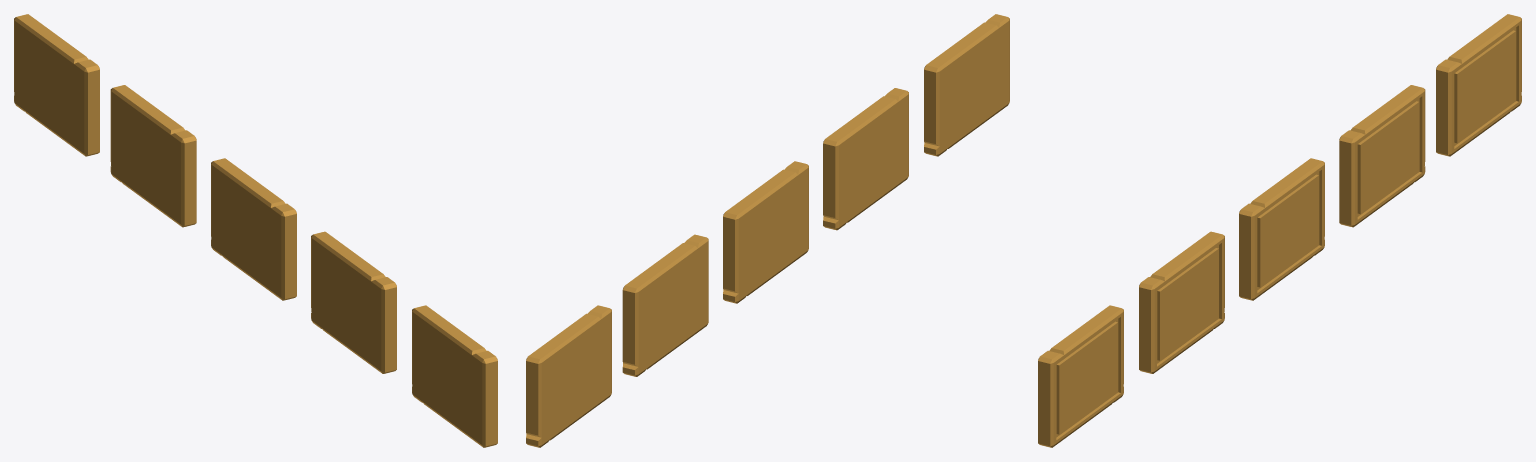
The model's file is LittleSlate.fbx.
3 views of the same model, side by side, from view 1: azimuth 30°, elevation 25°; view 2: azimuth 150°, elevation 25°; view 3: azimuth 330°, elevation 25° (orthographic).
Parts seen in each view (by area): view 1: Cube.003, Cube, Cube.002, Cube.004, Cube.001; view 2: Cube.003, Cube, Cube.004, Cube.001, Cube.002; view 3: Cube.003, Cube, Cube.004, Cube.002, Cube.001.
Part boxes in pixels (left/top/right/bottom): Cube.003: left=110, top=85, right=196, bottom=227; Cube: left=211, top=158, right=296, bottom=300; Cube.002: left=412, top=305, right=497, bottom=447; Cube.004: left=14, top=14, right=99, bottom=156; Cube.001: left=311, top=231, right=396, bottom=373; Cube.003: left=622, top=234, right=708, bottom=376; Cube: left=723, top=161, right=808, bottom=303; Cube.004: left=526, top=305, right=611, bottom=447; Cube.001: left=823, top=88, right=908, bottom=230; Cube.002: left=924, top=14, right=1009, bottom=156; Cube.003: left=1339, top=85, right=1425, bottom=227; Cube: left=1239, top=158, right=1324, bottom=300; Cube.004: left=1436, top=14, right=1521, bottom=156; Cube.002: left=1038, top=305, right=1123, bottom=447; Cube.001: left=1139, top=231, right=1224, bottom=373.
Bounding box in the file's own units: 6.23 × 34.28 × 331.
